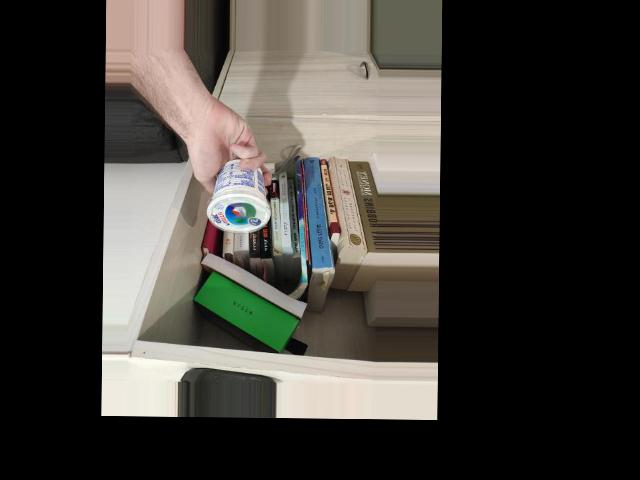cotage: (210, 147, 272, 236)
